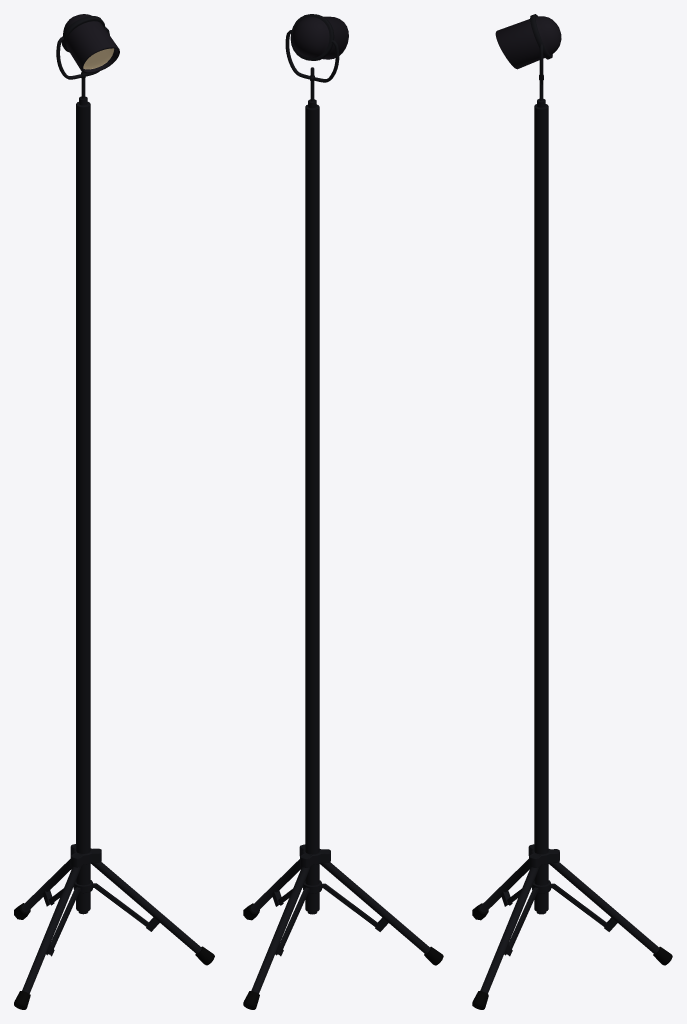
The model's file is LVR_Spotlights.fbx.
3 views of the same model, side by side, from view 1: azimuth 30°, elevation 25°; view 2: azimuth 150°, elevation 25°; view 3: azimuth 270°, elevation 25° (orthographic).
Parts seen in each view (by area): view 1: 01 - Spotlight pole.001; view 2: 01 - Spotlight pole.001; view 3: 01 - Spotlight pole.001.
Part boxes in pixels (x1,y1,x2,y2): 01 - Spotlight pole.001: [14, 14, 214, 1009]; 01 - Spotlight pole.001: [243, 14, 443, 1009]; 01 - Spotlight pole.001: [472, 14, 672, 1009].
Bounding box in the file's own units: 116 × 527 × 101.
